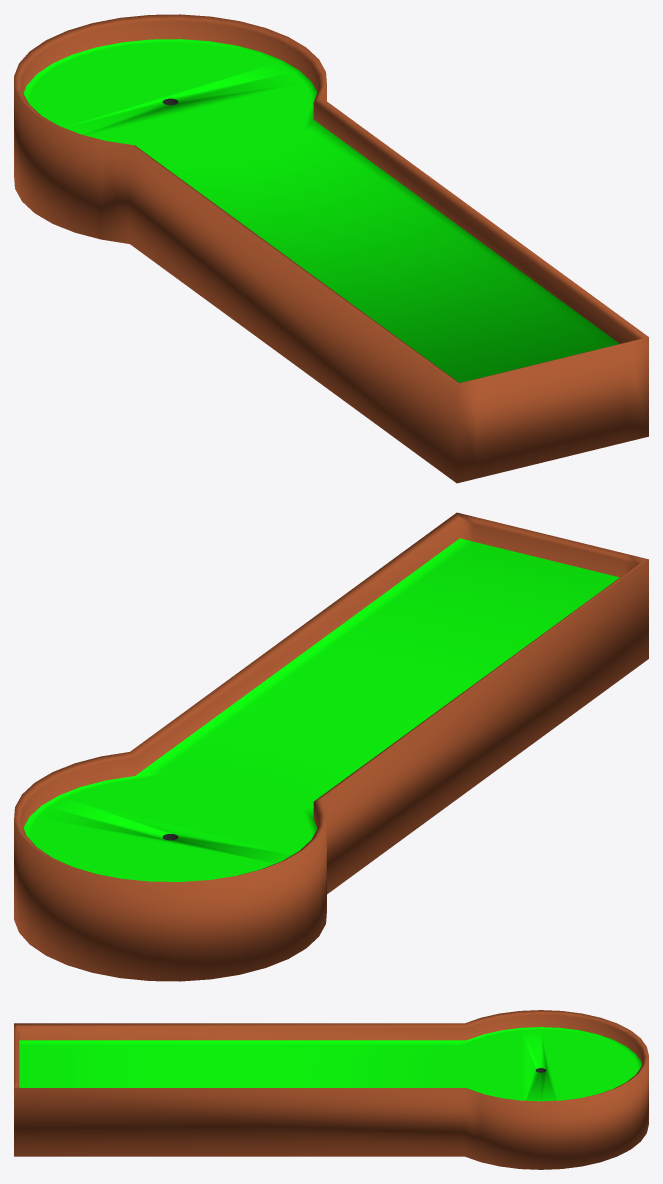
Rendered from CumanGolfCourse.glb.
3 renders of one model, top to bottom at view 1: azimuth 30°, elevation 25°; view 2: azimuth 150°, elevation 25°; view 3: azimuth 270°, elevation 25°, orthographic. The views are drawn at different scales.
Visible parts, largest first — view 1: GolfCourse; view 2: GolfCourse; view 3: GolfCourse.
Part boxes in pixels (box(x1,y1,x2,y2)): GolfCourse: box(14, 14, 648, 483); GolfCourse: box(14, 512, 648, 981); GolfCourse: box(14, 1010, 648, 1169).
Bounding box in the file's own units: 4 × 1.4 × 11.75.
